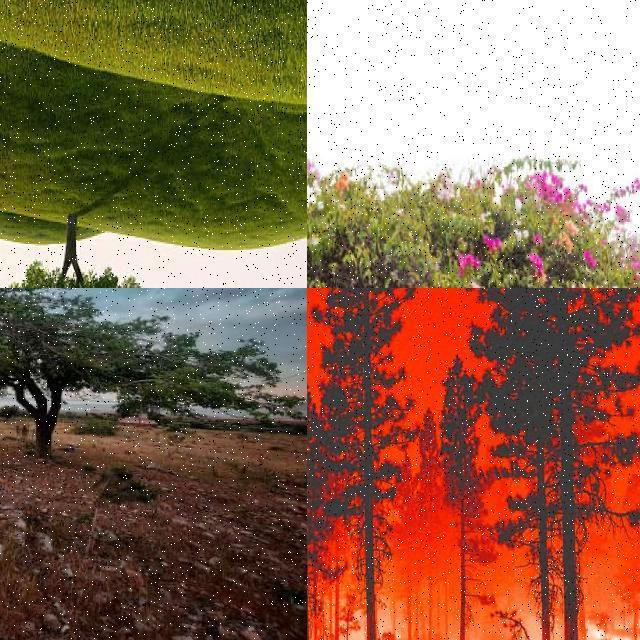tree: (459, 288, 640, 640), (307, 128, 640, 287), (315, 288, 415, 640), (464, 288, 560, 640), (0, 288, 164, 462), (308, 288, 360, 640), (307, 288, 355, 640), (118, 332, 282, 426), (438, 356, 490, 640), (0, 225, 156, 288), (412, 394, 448, 640), (306, 378, 334, 640), (308, 288, 328, 640), (616, 471, 639, 640), (306, 320, 318, 640), (308, 440, 324, 640), (308, 426, 316, 640), (307, 523, 320, 640), (308, 520, 320, 640)
